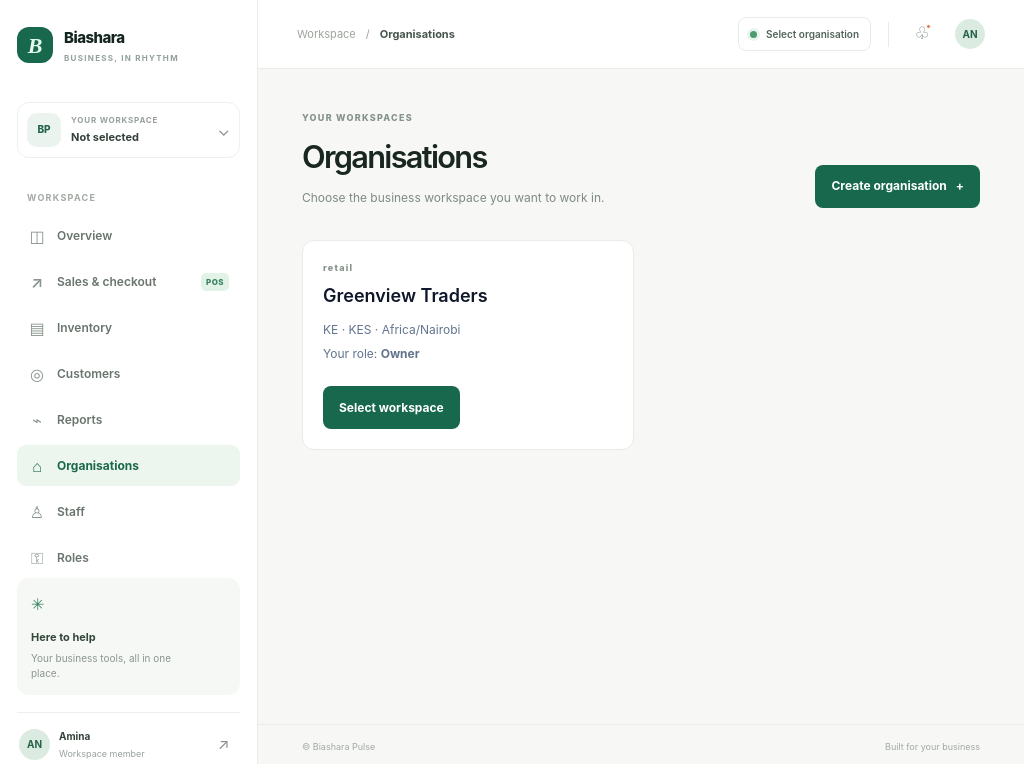
organisation management › loads the organisation list and selects a workspace
Check: the heading "Greenview Traders" is shown, box left=323, top=282, right=488, bottom=310
Click the button "Select workspace" at [391, 408], box left=323, top=386, right=460, bottom=430
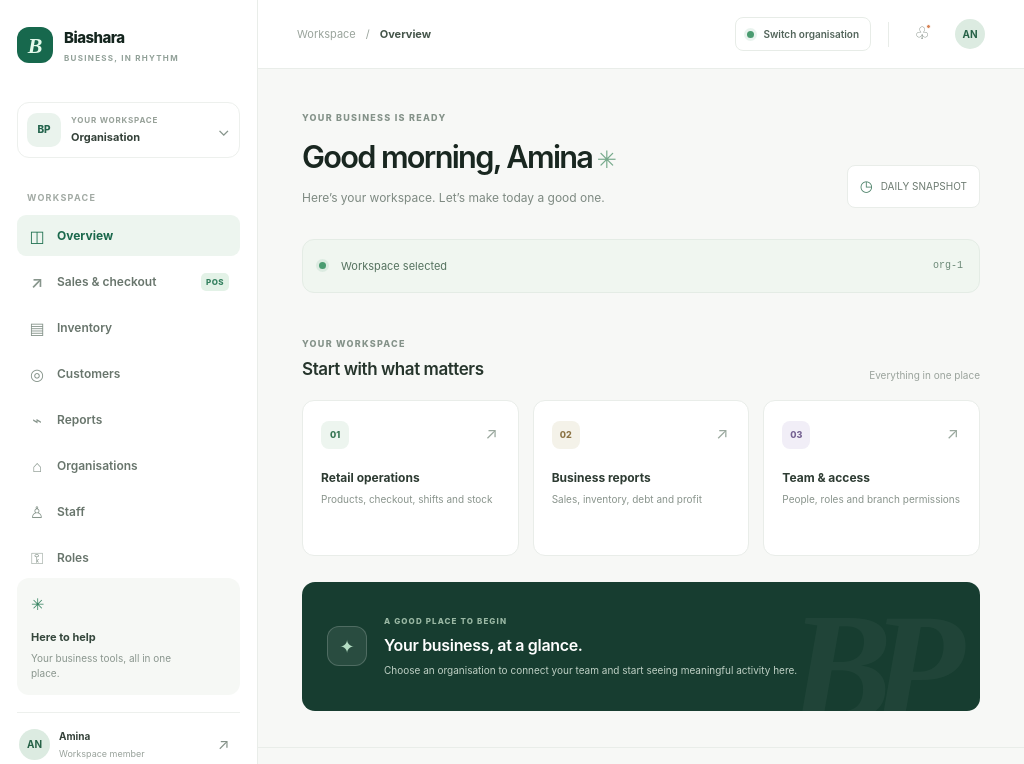
Check: the heading "Good morning, Amina ✳" is shown, box left=302, top=134, right=615, bottom=180
Check: the text "org-1" is shown, box left=933, top=258, right=963, bottom=274
